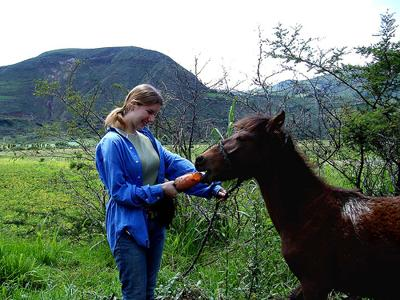person: (95, 85, 227, 300)
